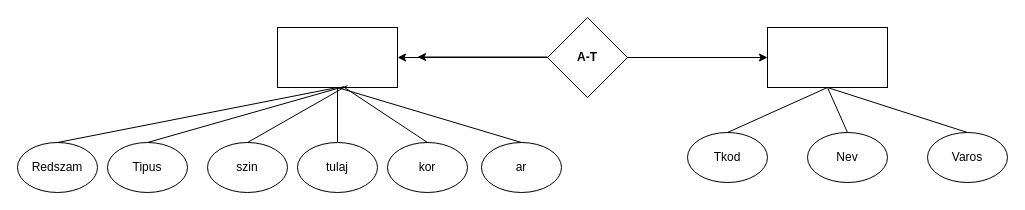
Image size: 1025x210. Some labels were removed from this diagram. The centre of each missing label's shape, as x and y in pixels:
"Auto" belongs at (337,57).
"Tulajdonos" belongs at (827,57).
